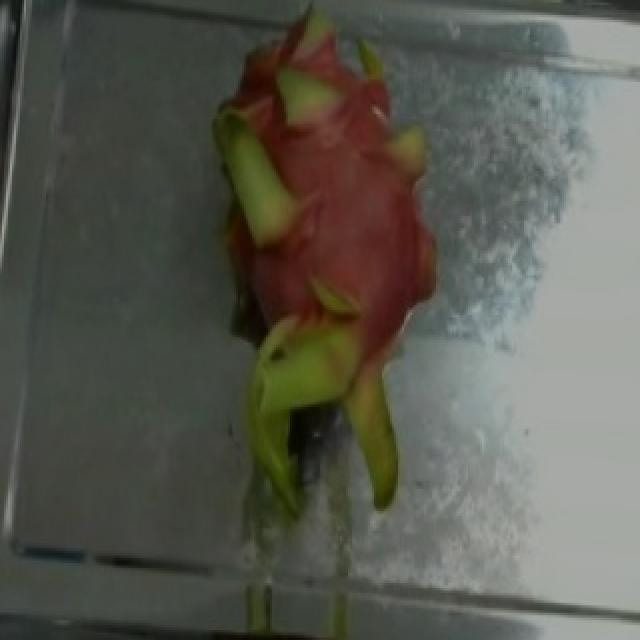fruit: (142, 8, 462, 442), (70, 553, 438, 640)
